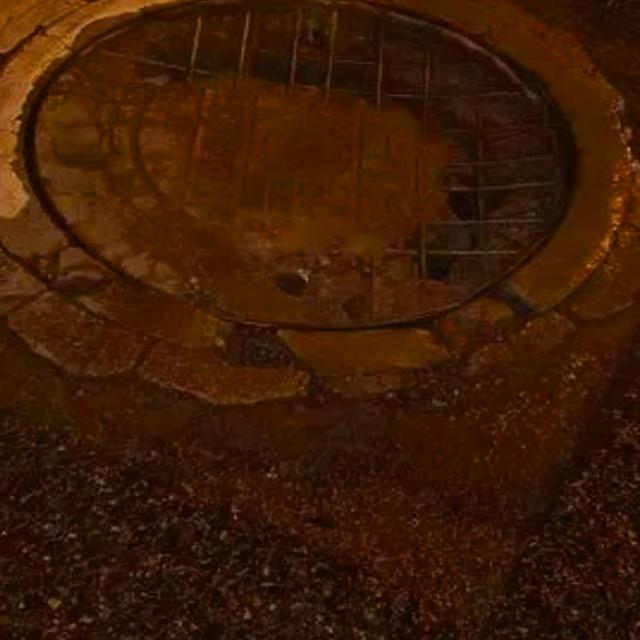circle: (0, 0, 640, 522)
